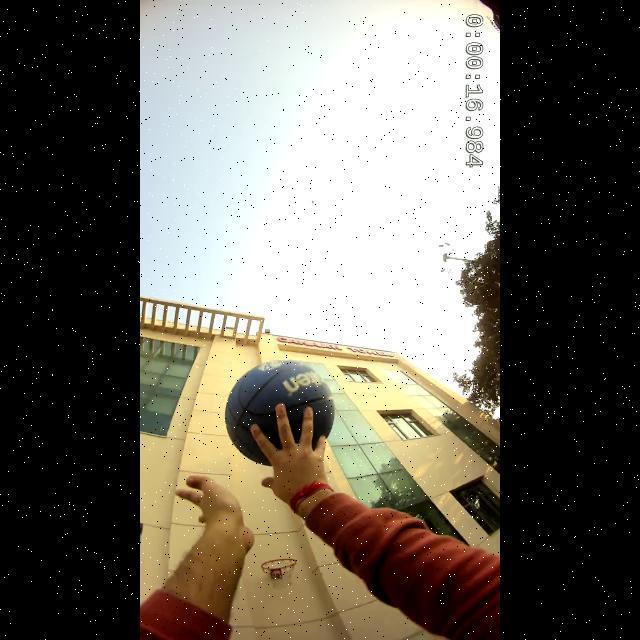ball: (224, 359, 335, 466)
hoop: (260, 556, 300, 577)
